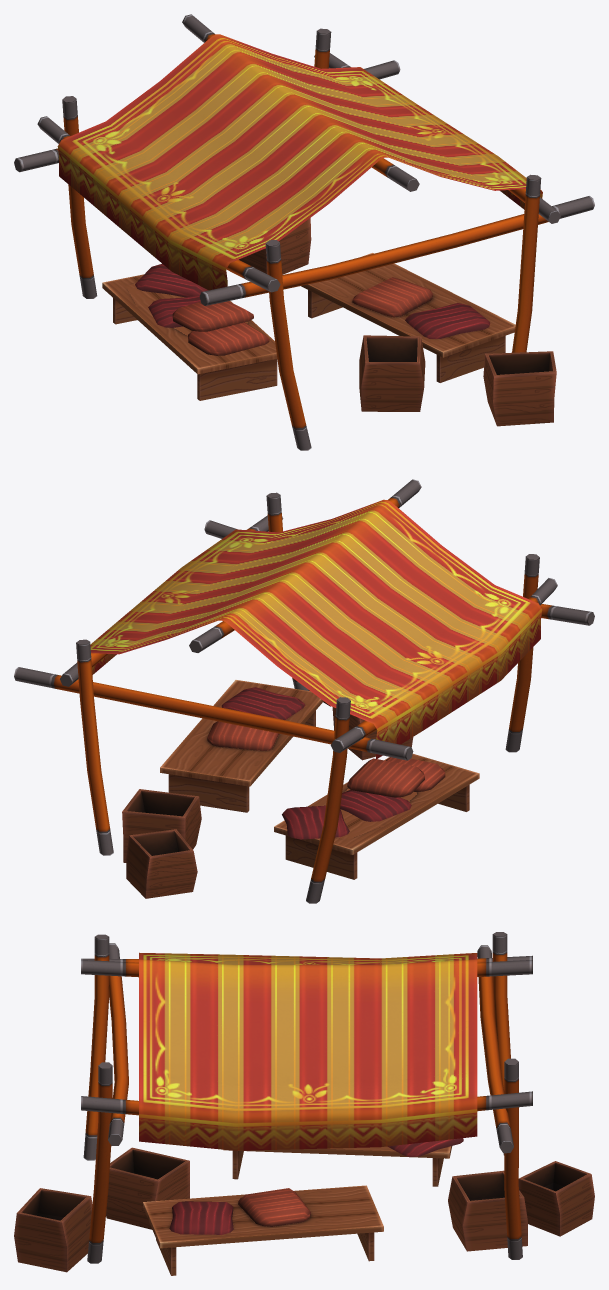
Rendered from Market_01.FBX.
3 views of the same model, one above another, from view 1: azimuth 30°, elevation 25°; view 2: azimuth 150°, elevation 25°; view 3: azimuth 270°, elevation 25° (orthographic). The views are drawn at different scales.
Parts seen in each view (by area): view 1: Market_01; view 2: Market_01; view 3: Market_01.
Boxes of the visible parts, bbox=[...] form: Market_01: bbox=[14, 14, 594, 450]; Market_01: bbox=[14, 479, 594, 903]; Market_01: bbox=[14, 932, 594, 1275].
Bounding box in the file's own units: 153 × 92.69 × 196.
